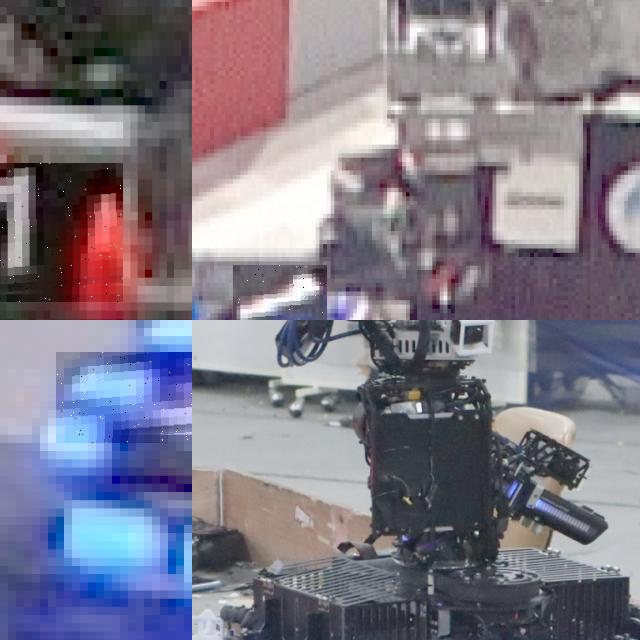B1: (233, 265, 327, 320)
B3: (56, 352, 192, 442)
R1: (0, 162, 123, 302)
